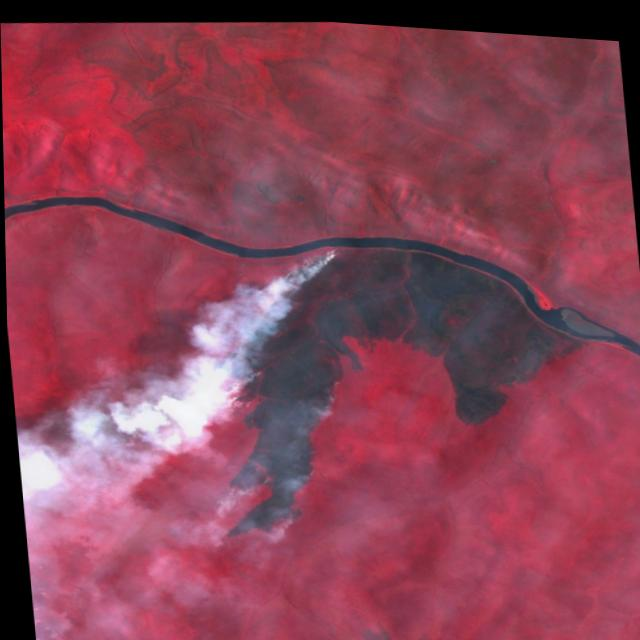fire: (184, 225, 367, 552)
